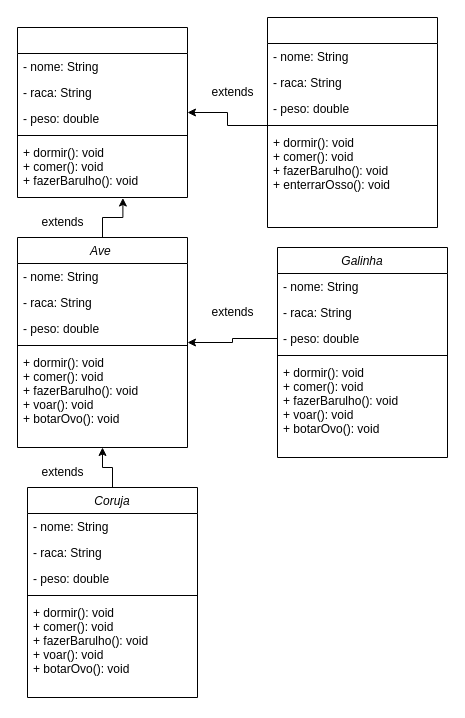
The diagram is 465 pixels wide and 718 high, and some of its shapes have lost their labels. Each missing label, with the box of its shape:
Animal: (16, 26, 188, 198)
Cachorro: (266, 16, 438, 228)
